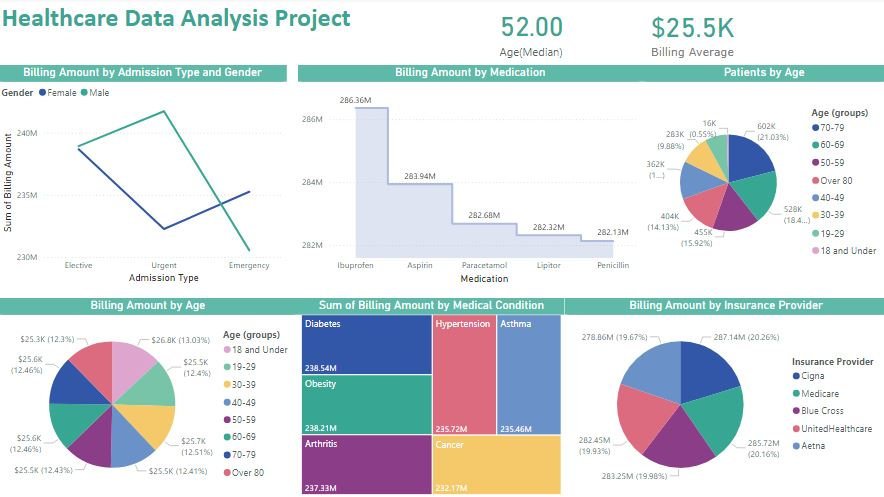

Layout of this report page (visuals, bound fields, positions):
{"tool":"powerbi","page":{"name":"Page 1","canvas":[1280,720],"ordinal":0},"visuals":[{"type":"card","fields":{"Values":["healthcare_dataset.Billing Average"]},"box":[864,0,272,96],"z":0},{"type":"textbox","box":[0,0,592,96],"z":1000},{"type":"pieChart","title":"Billing Amount by Age","fields":{"Category":["healthcare_dataset.Age (groups)"],"Y":["healthcare_dataset.Billing Average"]},"box":[0,432,432,288],"z":2000},{"type":"pieChart","title":"Billing Amount by Insurance Provider","fields":{"Category":["healthcare_dataset.Insurance Provider"],"Y":["Sum(healthcare_dataset.Billing Amount)"]},"box":[816,432,464,288],"z":3000},{"type":"stackedAreaChart","title":"Billing Amount by Medication","fields":{"Category":["healthcare_dataset.Medication"],"Y":["Sum(healthcare_dataset.Billing Amount)"]},"box":[432,96,496,320],"z":4000},{"type":"lineChart","title":"Billing Amount by Admission Type and Gender","fields":{"Category":["healthcare_dataset.Admission Type"],"Y":["Sum(healthcare_dataset.Billing Amount)"],"Series":["healthcare_dataset.Gender"]},"box":[0,96,416,320],"z":5000},{"type":"card","fields":{"Values":["healthcare_dataset.Age(Median)"]},"box":[608,0,320,96],"z":6000},{"type":"pieChart","title":"Patients by Age","fields":{"Category":["healthcare_dataset.Age (groups)"],"Series":["healthcare_dataset.Age (groups)"],"Y":["Sum(healthcare_dataset.Age)"]},"box":[928,96,352,320],"z":7000},{"type":"treemap","fields":{"Group":["healthcare_dataset.Medical Condition"],"Values":["Sum(healthcare_dataset.Billing Amount)"]},"box":[432,432,384,288],"z":8000}]}

Visuals, with their boxes in screenshot pixels (x1, y1, x2, y2), scaled from the page's 1280x720 canvas onto the 884x497 screenshot:
card - healthcare_dataset.Billing Average: 597, 0, 785, 66
textbox: 0, 0, 409, 66
"Billing Amount by Age" pieChart: 0, 298, 298, 496
"Billing Amount by Insurance Provider" pieChart: 564, 298, 883, 496
"Billing Amount by Medication" stackedAreaChart: 298, 66, 641, 287
"Billing Amount by Admission Type and Gender" lineChart: 0, 66, 287, 287
card - healthcare_dataset.Age(Median): 420, 0, 641, 66
"Patients by Age" pieChart: 641, 66, 883, 287
treemap - healthcare_dataset.Medical Condition x Sum(healthcare_dataset.Billing Amount): 298, 298, 564, 496
